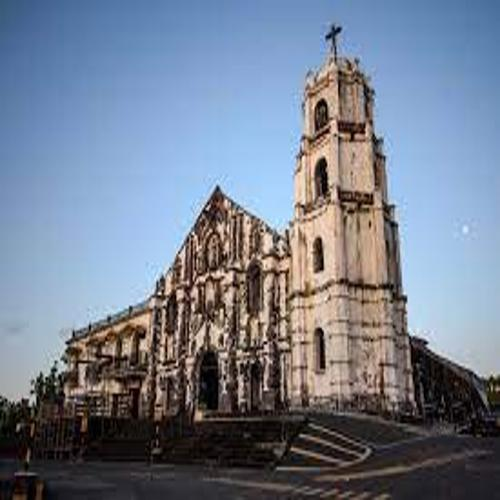Daraga Church: (152, 17, 416, 419)
